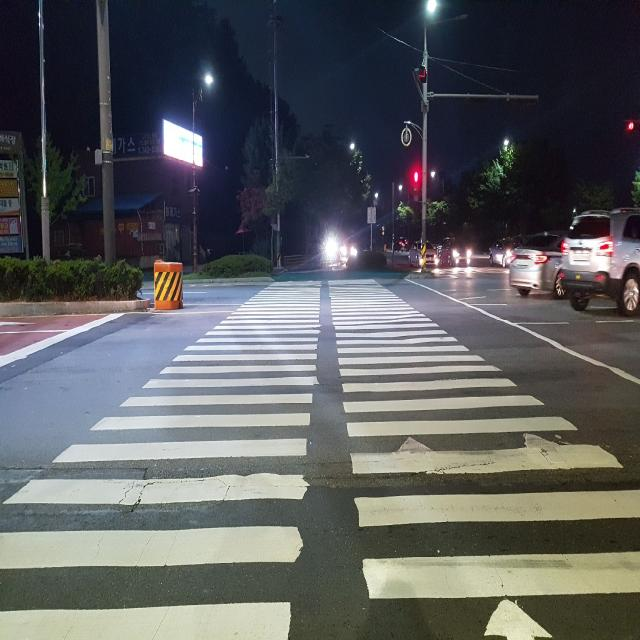빨간불: (412, 169, 422, 200)
횡단보도: (4, 273, 636, 636)
